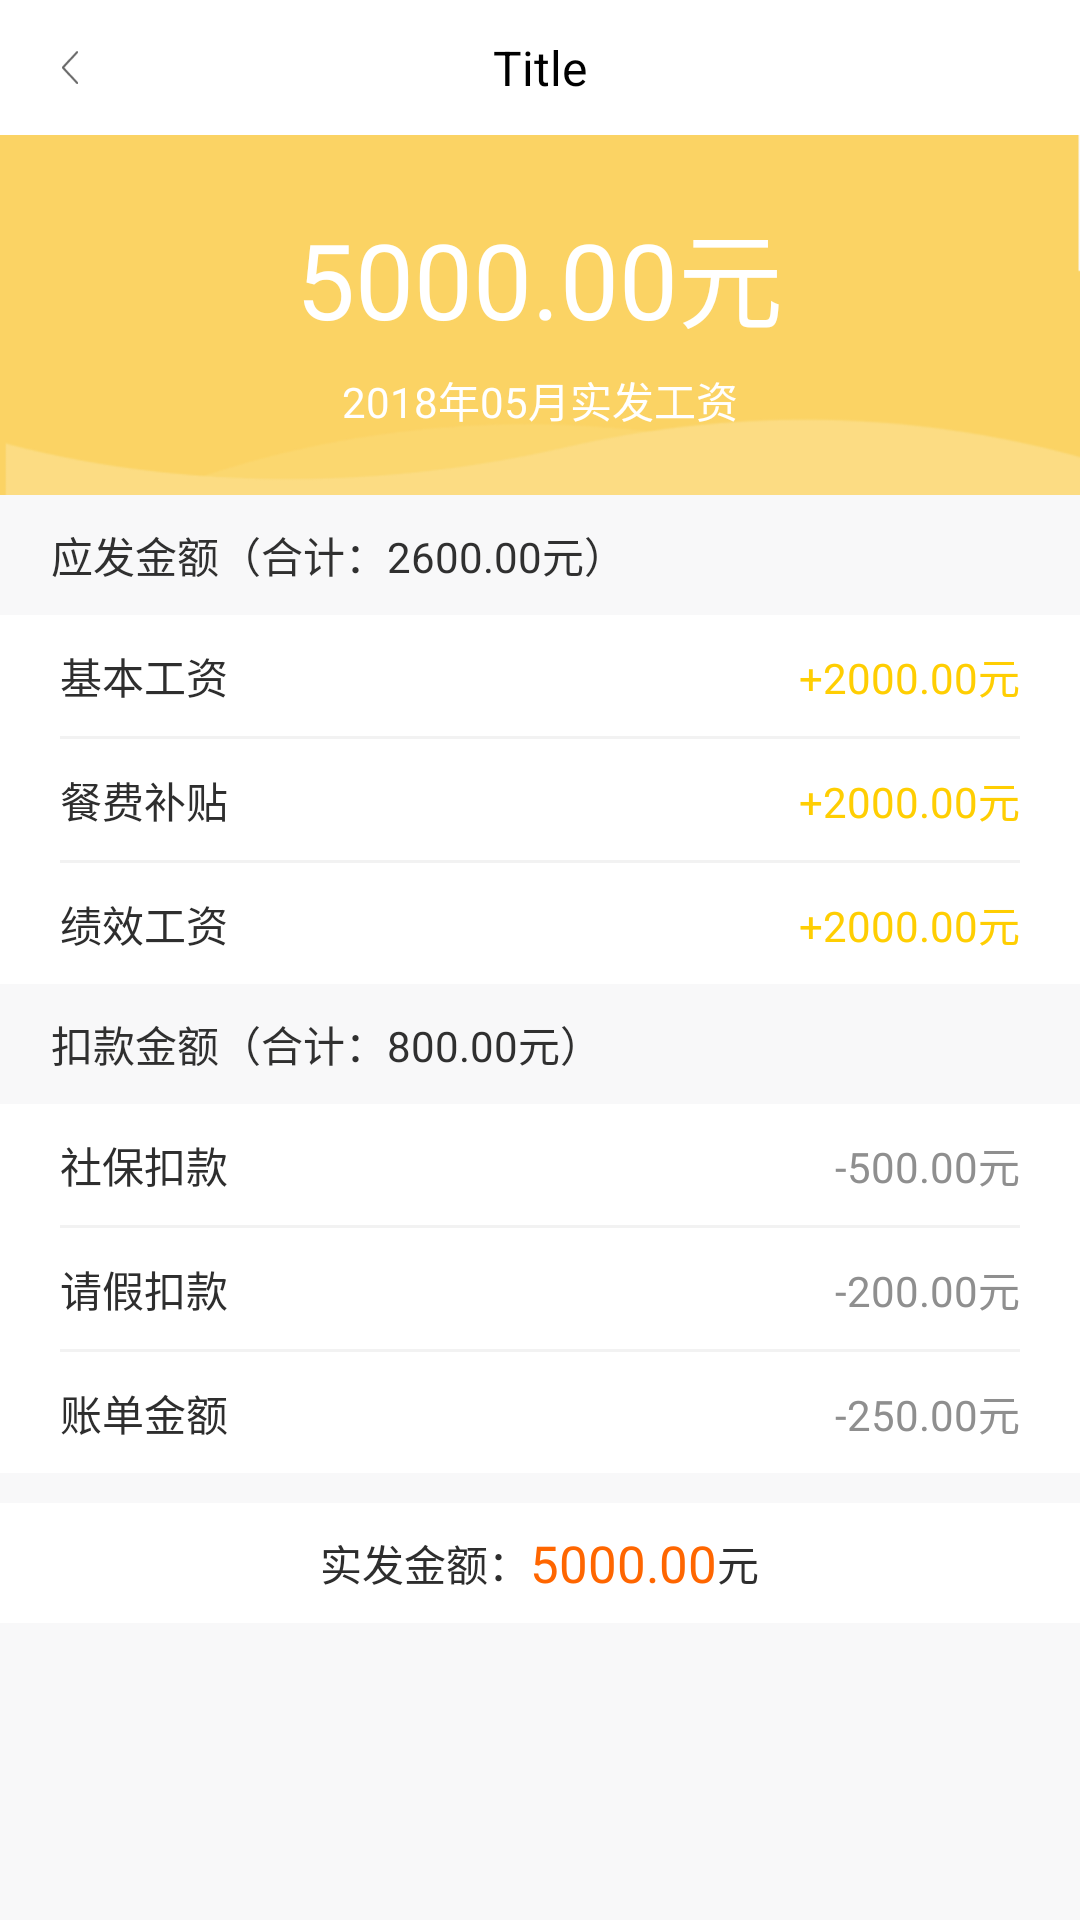

Point at icon controls on the screen. Image size 1080 × 1920, points as (x,y).
back: (70,67)
